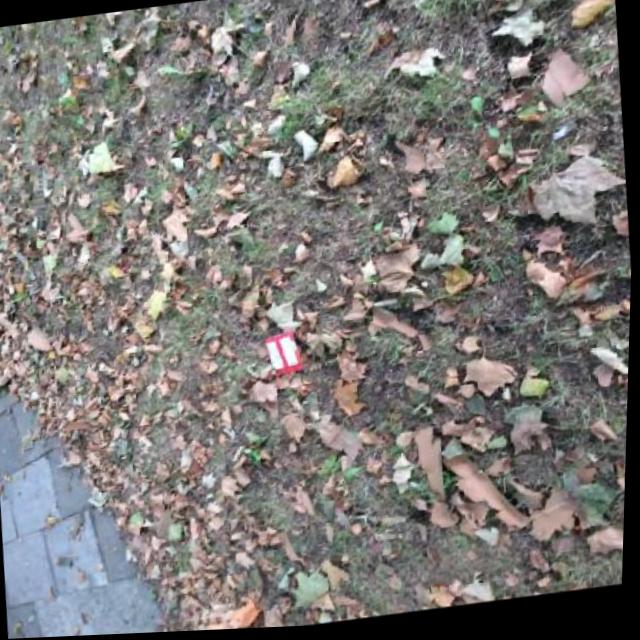plastic: (262, 331, 306, 376)
